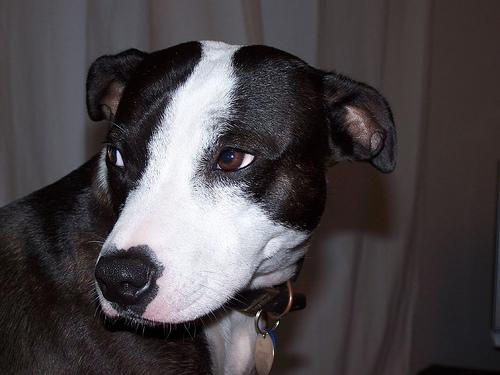dog: (83, 39, 397, 321)
